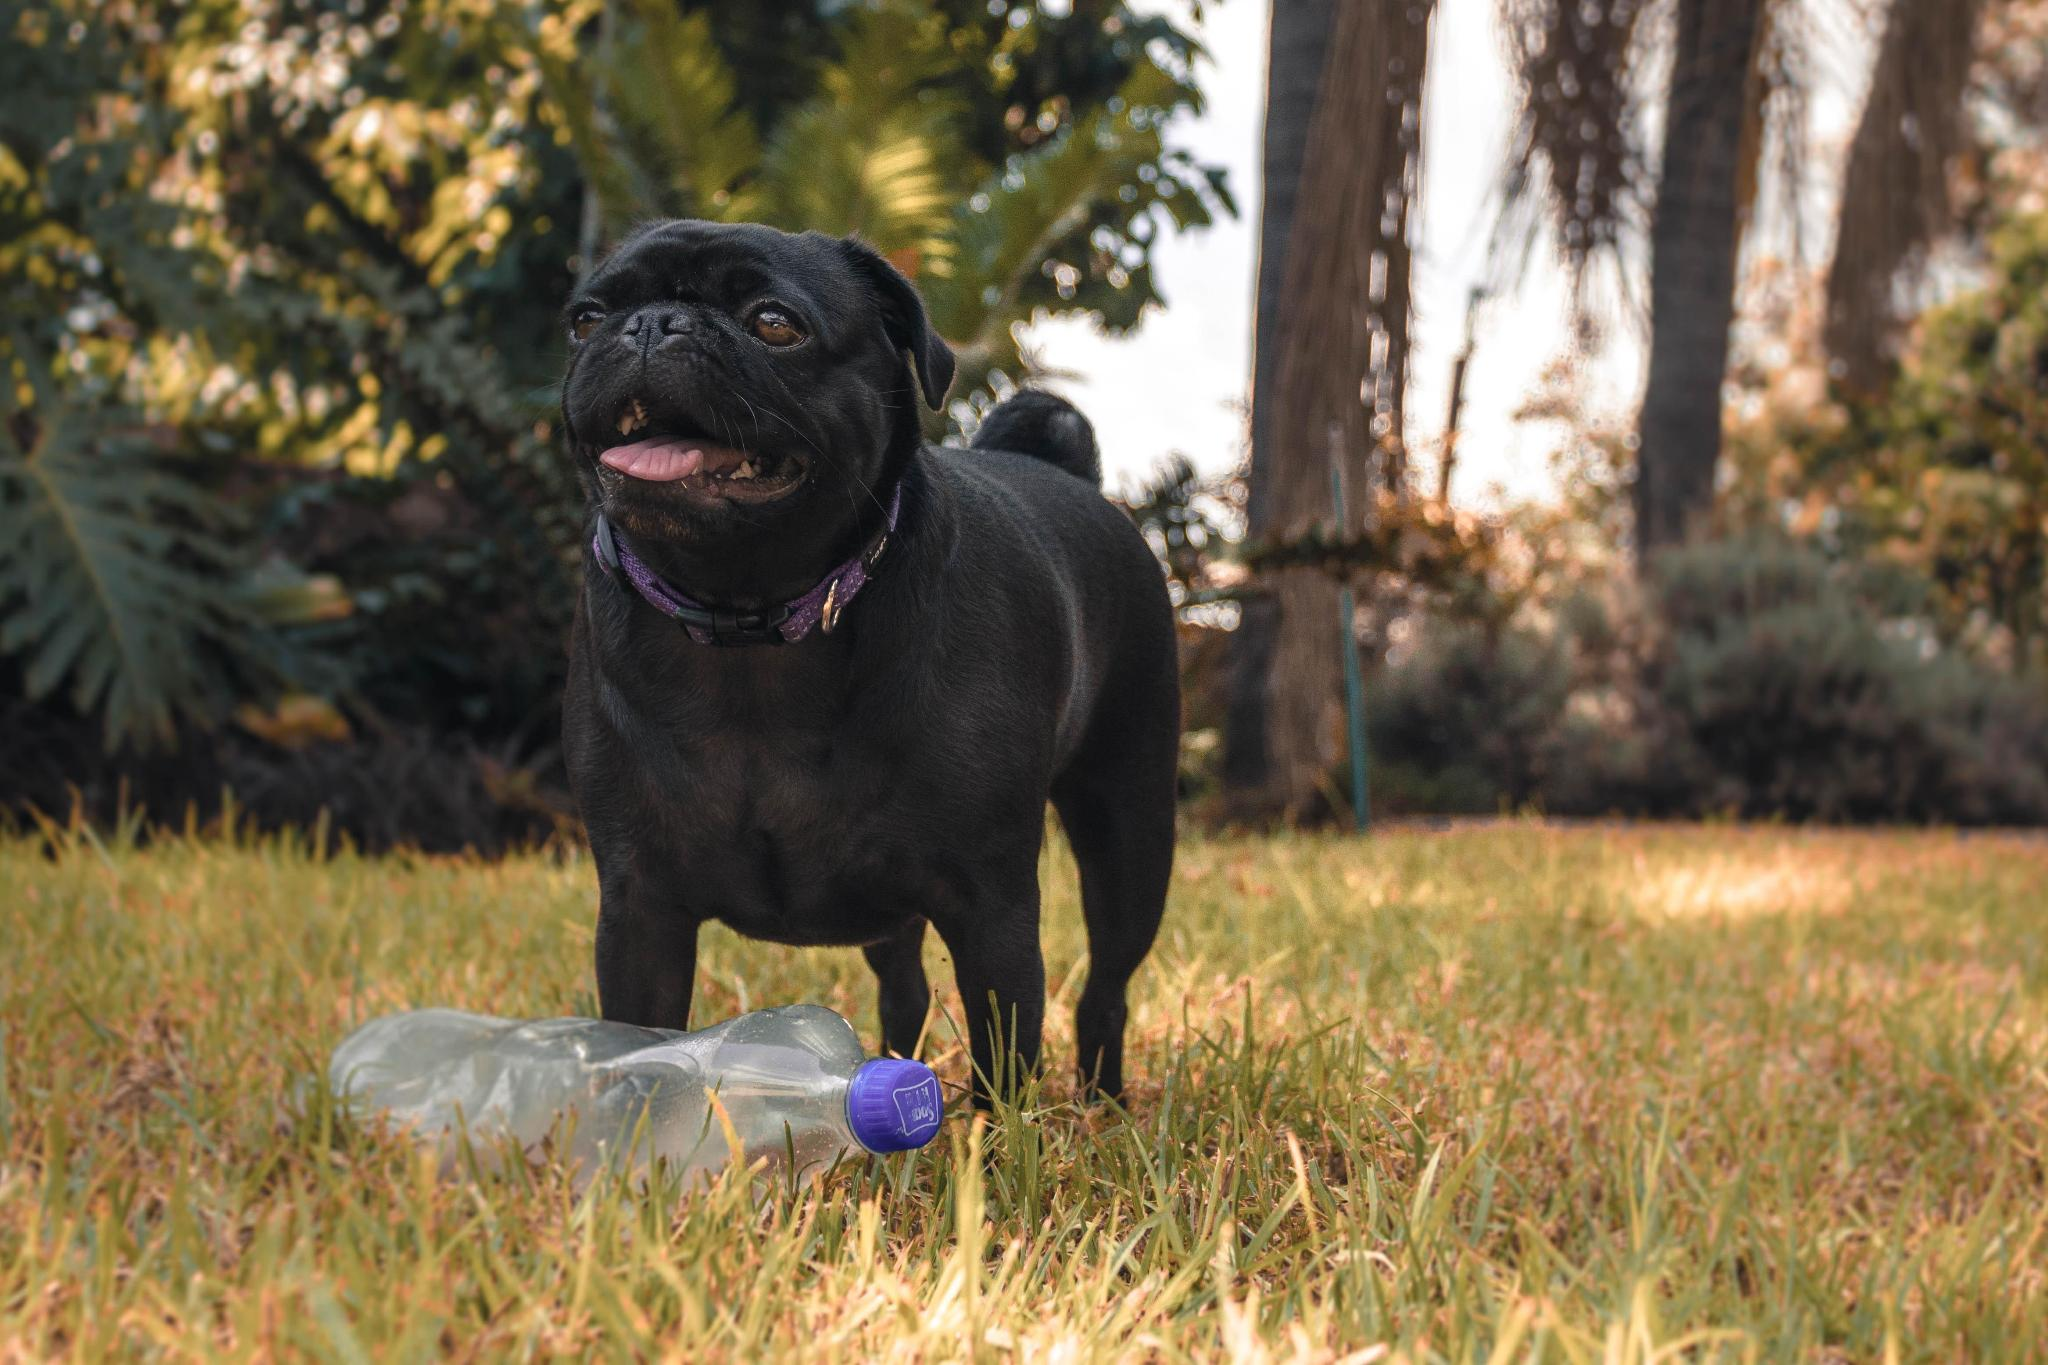bottle: (304, 970, 974, 1228)
